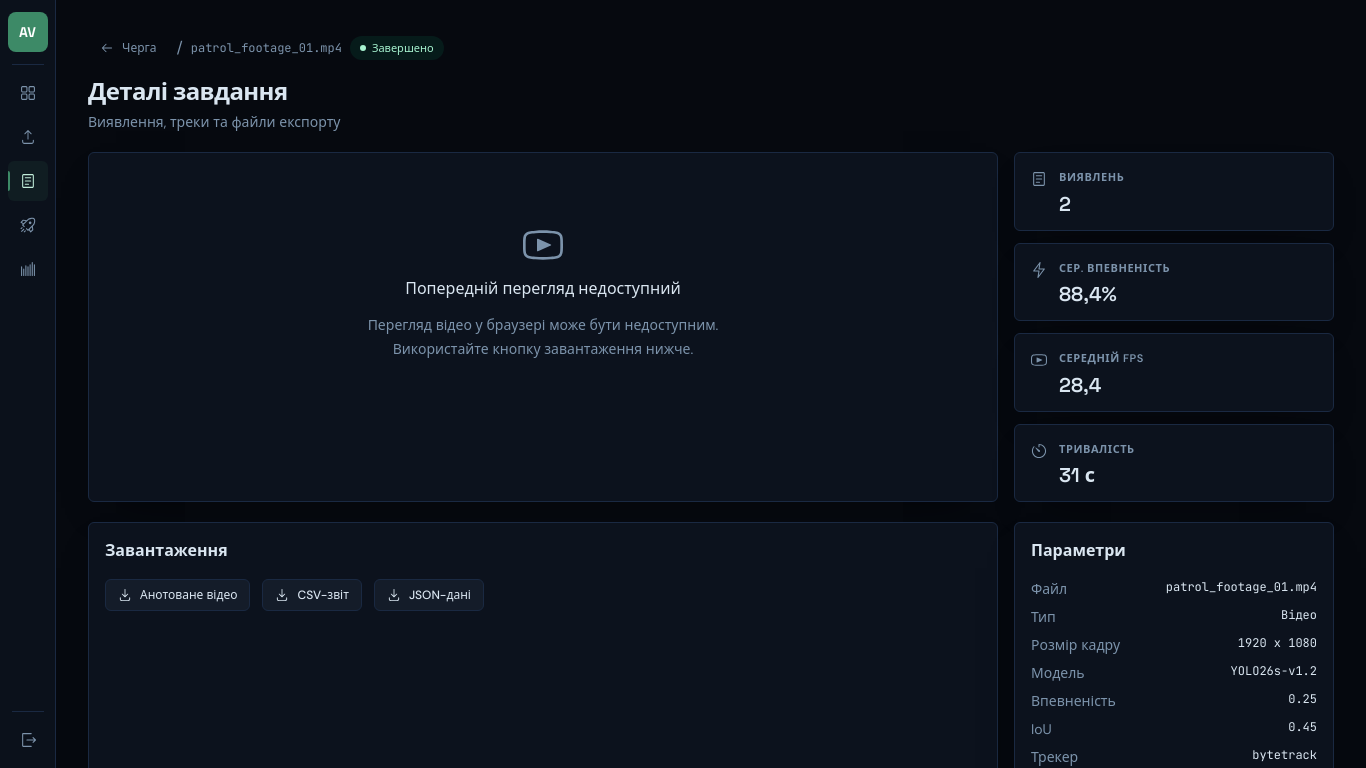
Scenario: Phase 27 job details page › does not send bearer token to external download URLs
The width and height of the screenshot is (1366, 768).
expect the heading "Деталі завдання" is shown: met, box x1=88 y1=76 x2=288 y2=107
Click the button "CSV-звіт" at coordinates (312, 595), box x1=262 y1=579 x2=362 y2=611
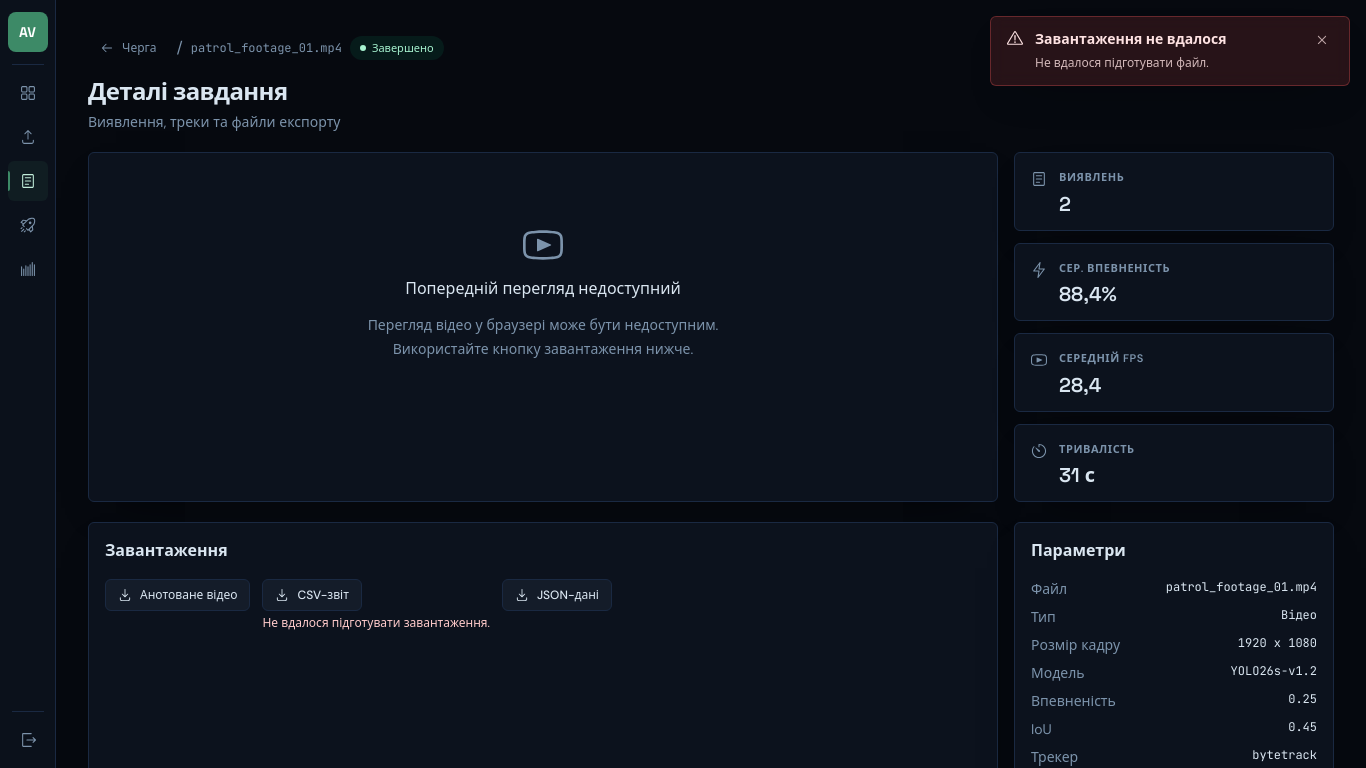
expect the text "Не вдалося підготувати завантаження." is shown: met, box x1=262 y1=615 x2=490 y2=631
